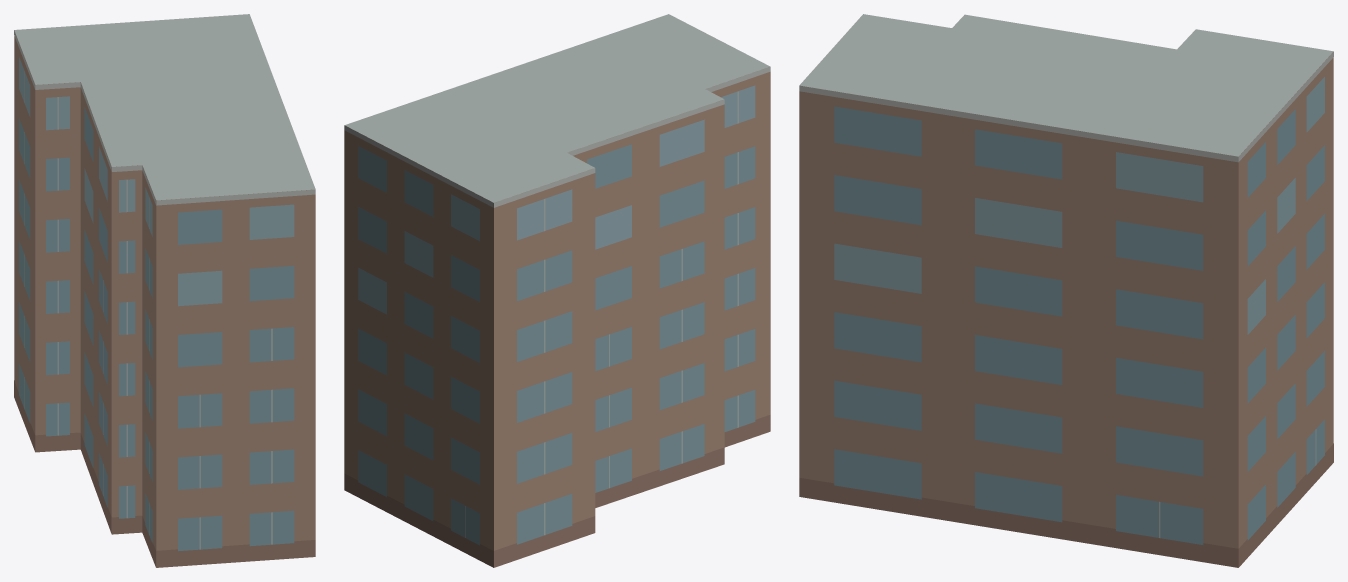
The model's file is survey-upis-32987574.glb.
3 renders of one model, left to right at view 1: azimuth 30°, elevation 25°; view 2: azimuth 150°, elevation 25°; view 3: azimuth 270°, elevation 25°, orthographic. The views are drawn at different scales.
Parts seen in each view (by area): view 1: survey-upis-32987574.tmp; view 2: survey-upis-32987574.tmp; view 3: survey-upis-32987574.tmp.
Part boxes in pixels (left/top/right/bottom): survey-upis-32987574.tmp: left=14, top=14, right=315, bottom=567; survey-upis-32987574.tmp: left=344, top=14, right=770, bottom=567; survey-upis-32987574.tmp: left=799, top=14, right=1333, bottom=567.
Size of the model in its own units: 13.1 by 17.6 by 20.74.
